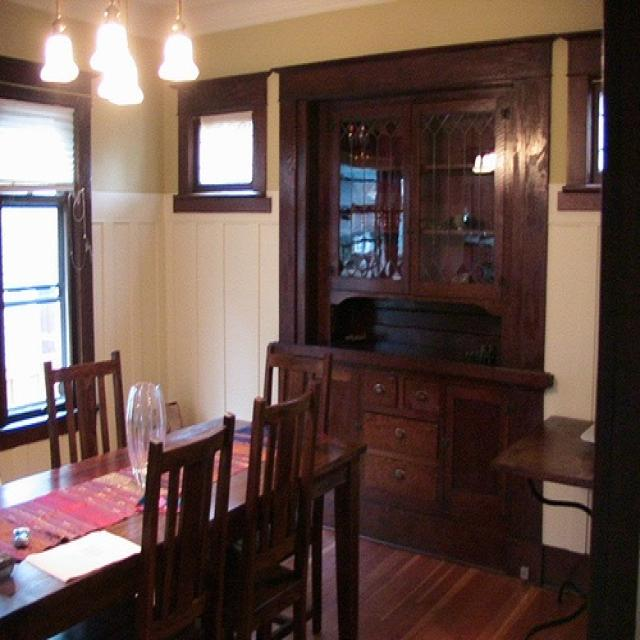chair: (92, 410, 237, 638), (212, 374, 322, 638), (261, 338, 335, 638), (40, 343, 129, 474)
diningtable: (0, 408, 371, 638)
